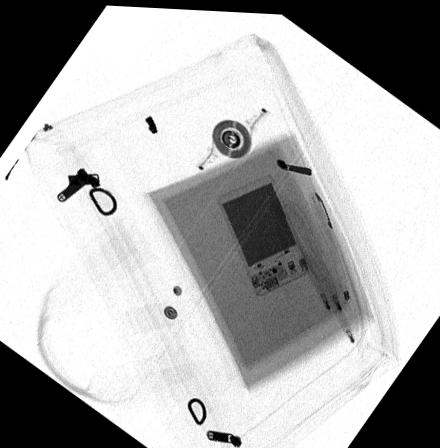Powerbank: (213, 169, 307, 293)
